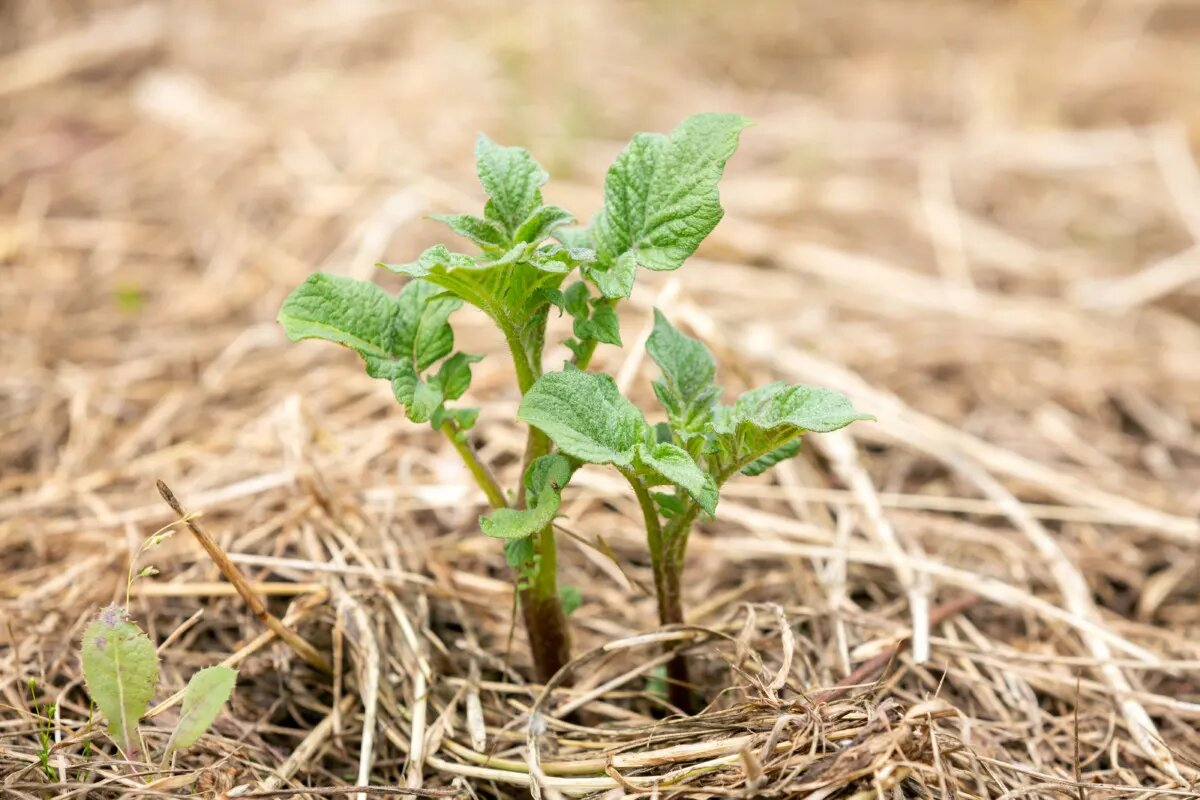potato_plant: (272, 102, 874, 711)
